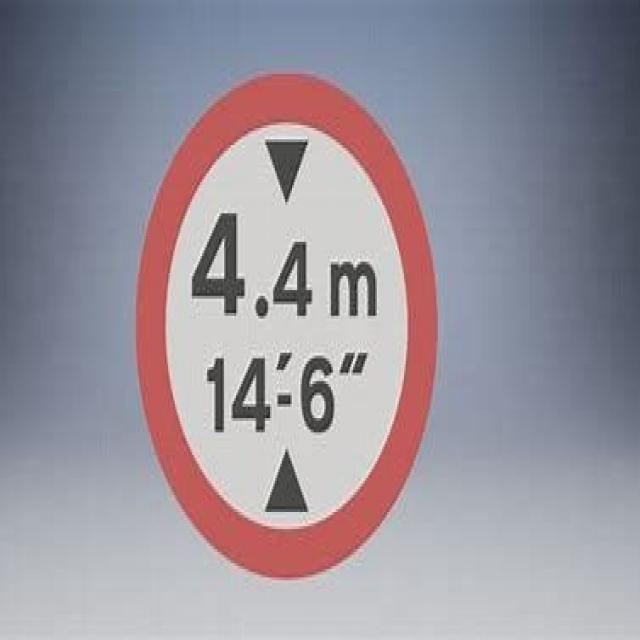HEIGHT_LIMIT: (134, 74, 440, 569)
